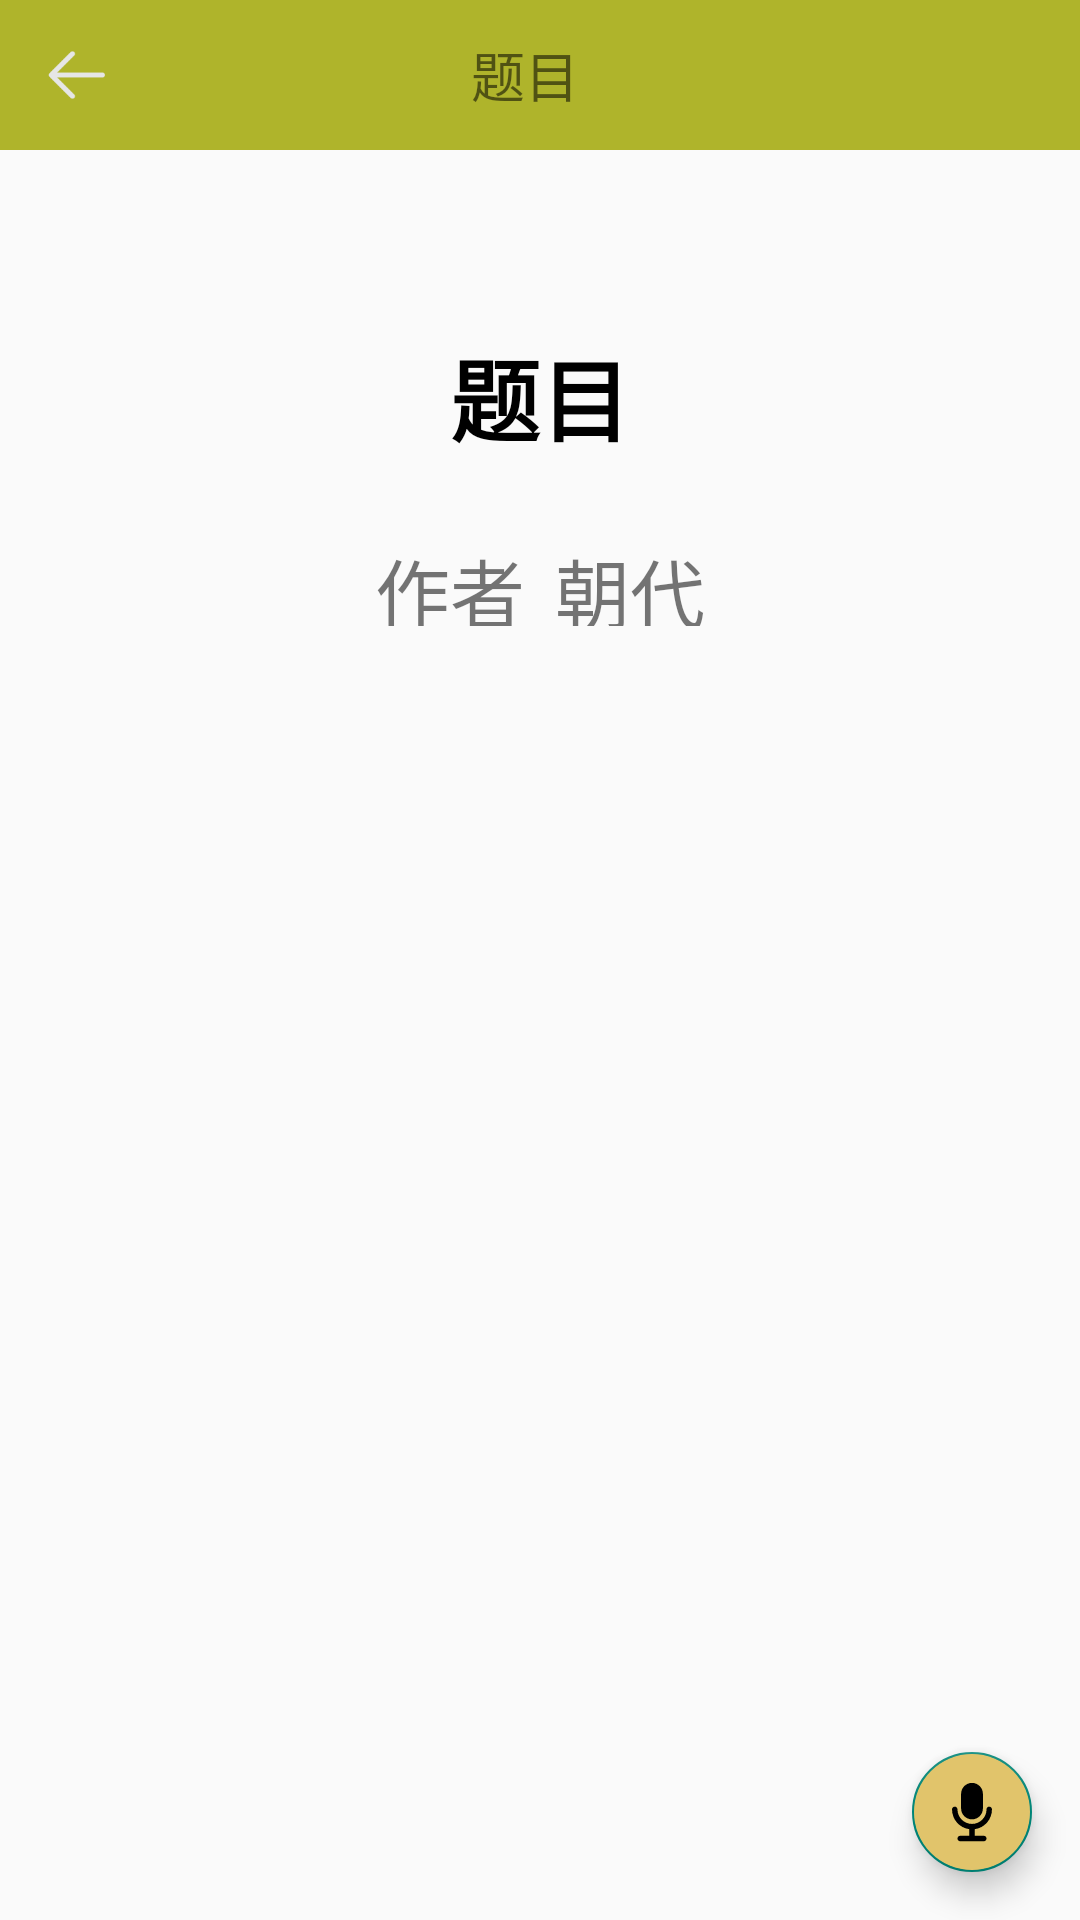

Screen size 1080px x 1920px. Icon name, then its center in pixels as point (x, y):
back: point (76, 75)
